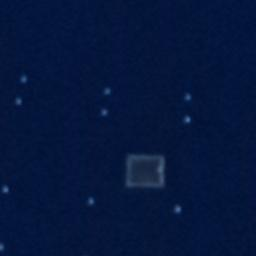square_cover: (120, 148, 170, 193)
